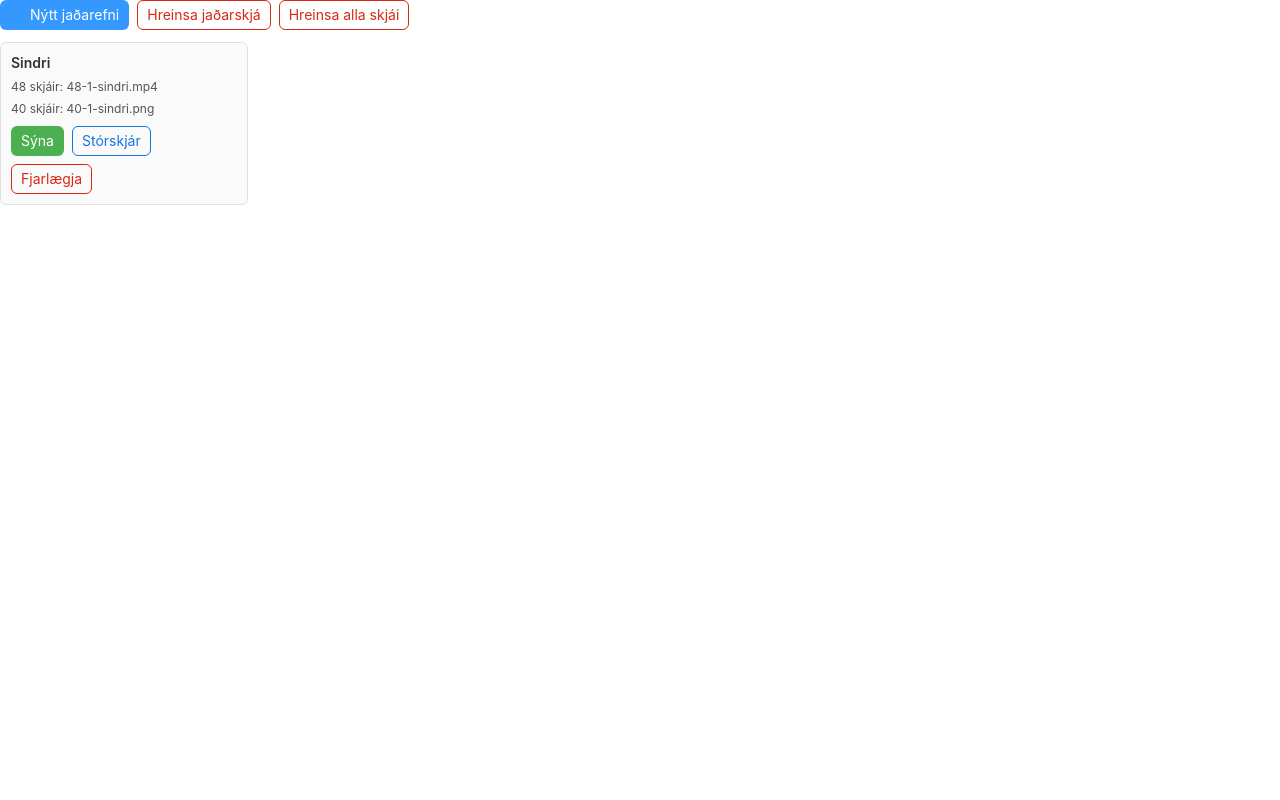
Test case: PerimeterMediaPairs › leaves the main-screen editor open when saving fails
The image size is (1280, 800).
Click the button "Stórskjár". click: click(111, 141)
box: [72,126,151,156]
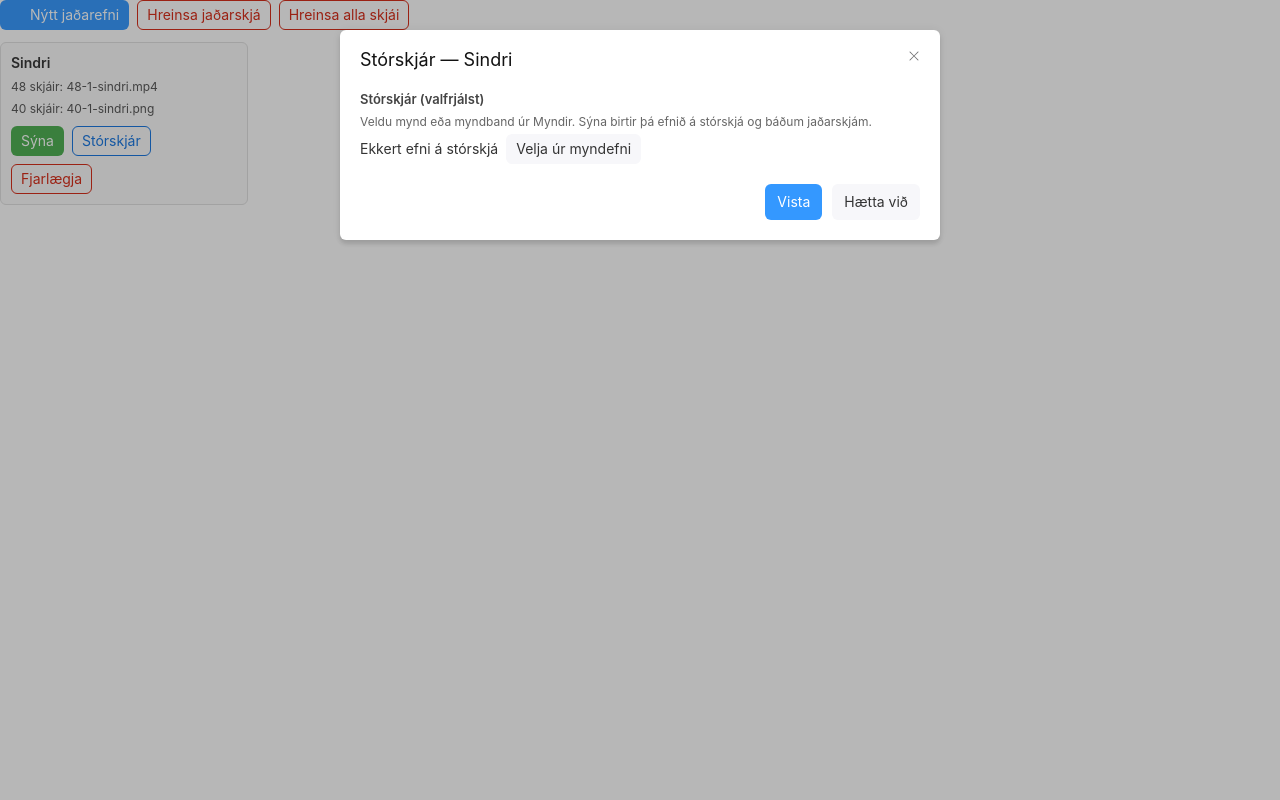
Click the button "Vista". click: click(794, 202)
box: [765,184,822,220]
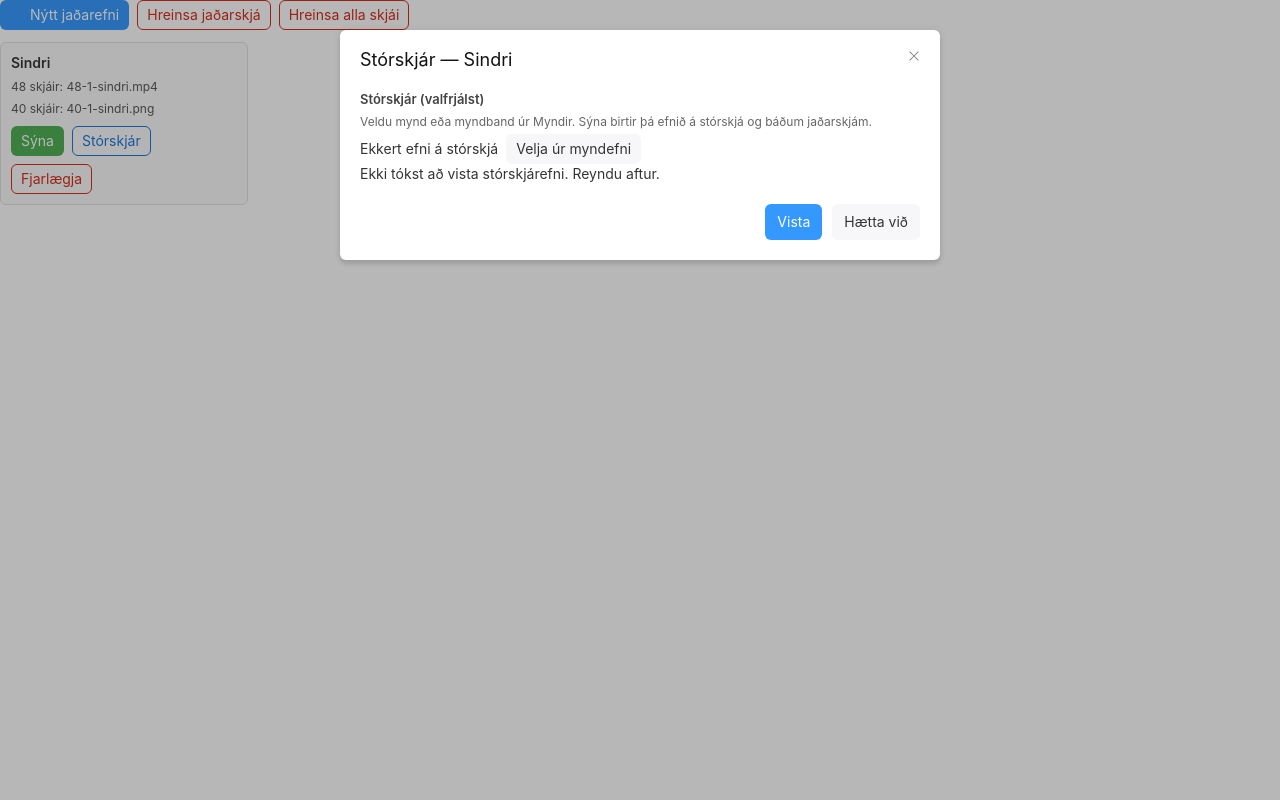
Expected: the button "Vista" is enabled, [765,204,822,240]
Expected: the message shows "Ekki tókst að vista stórskjárefni", [360,165,660,182]
